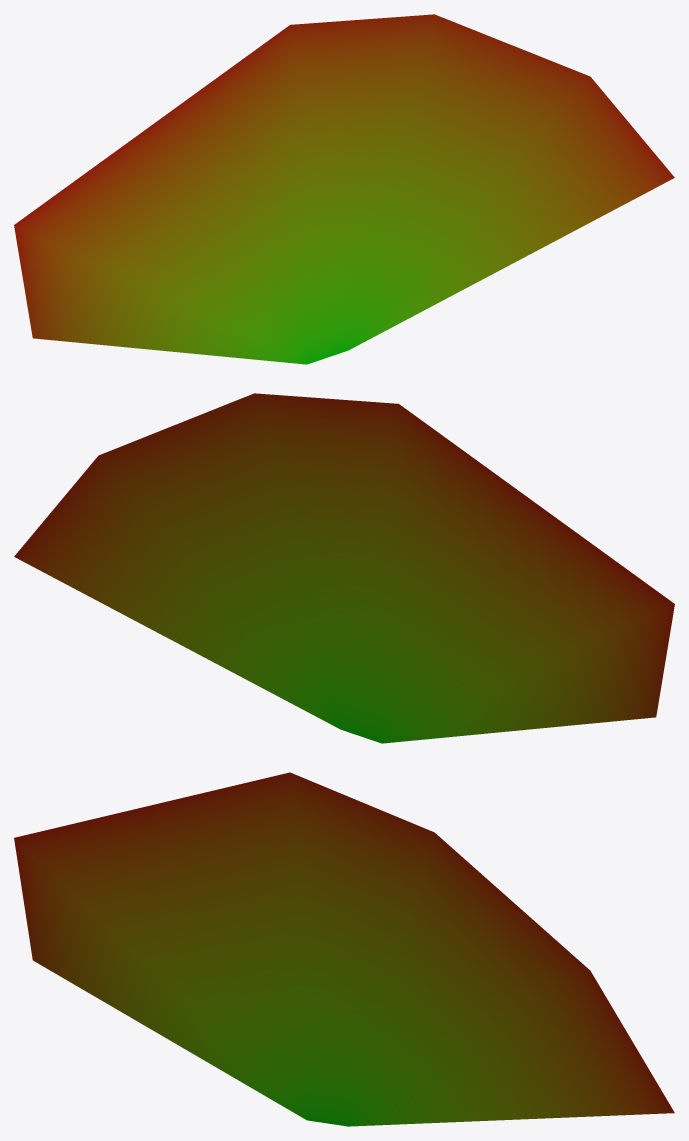
The model's file is Purple Ornamental Kale_LOD6_Var4_ugdieawja.fbx.
3 views of the same model, one above another, from view 1: azimuth 30°, elevation 25°; view 2: azimuth 150°, elevation 25°; view 3: azimuth 330°, elevation 25° (orthographic).
Visible parts, largest first — view 1: _8340_Var4_LOD6; view 2: _8340_Var4_LOD6; view 3: _8340_Var4_LOD6.
Boxes of the visible parts, x1,y1,x2,y2 form: _8340_Var4_LOD6: [14, 14, 674, 364]; _8340_Var4_LOD6: [14, 393, 674, 743]; _8340_Var4_LOD6: [14, 772, 674, 1126].
Size of the model in its own units: 53.63 by 26.66 by 1.79e-07.
